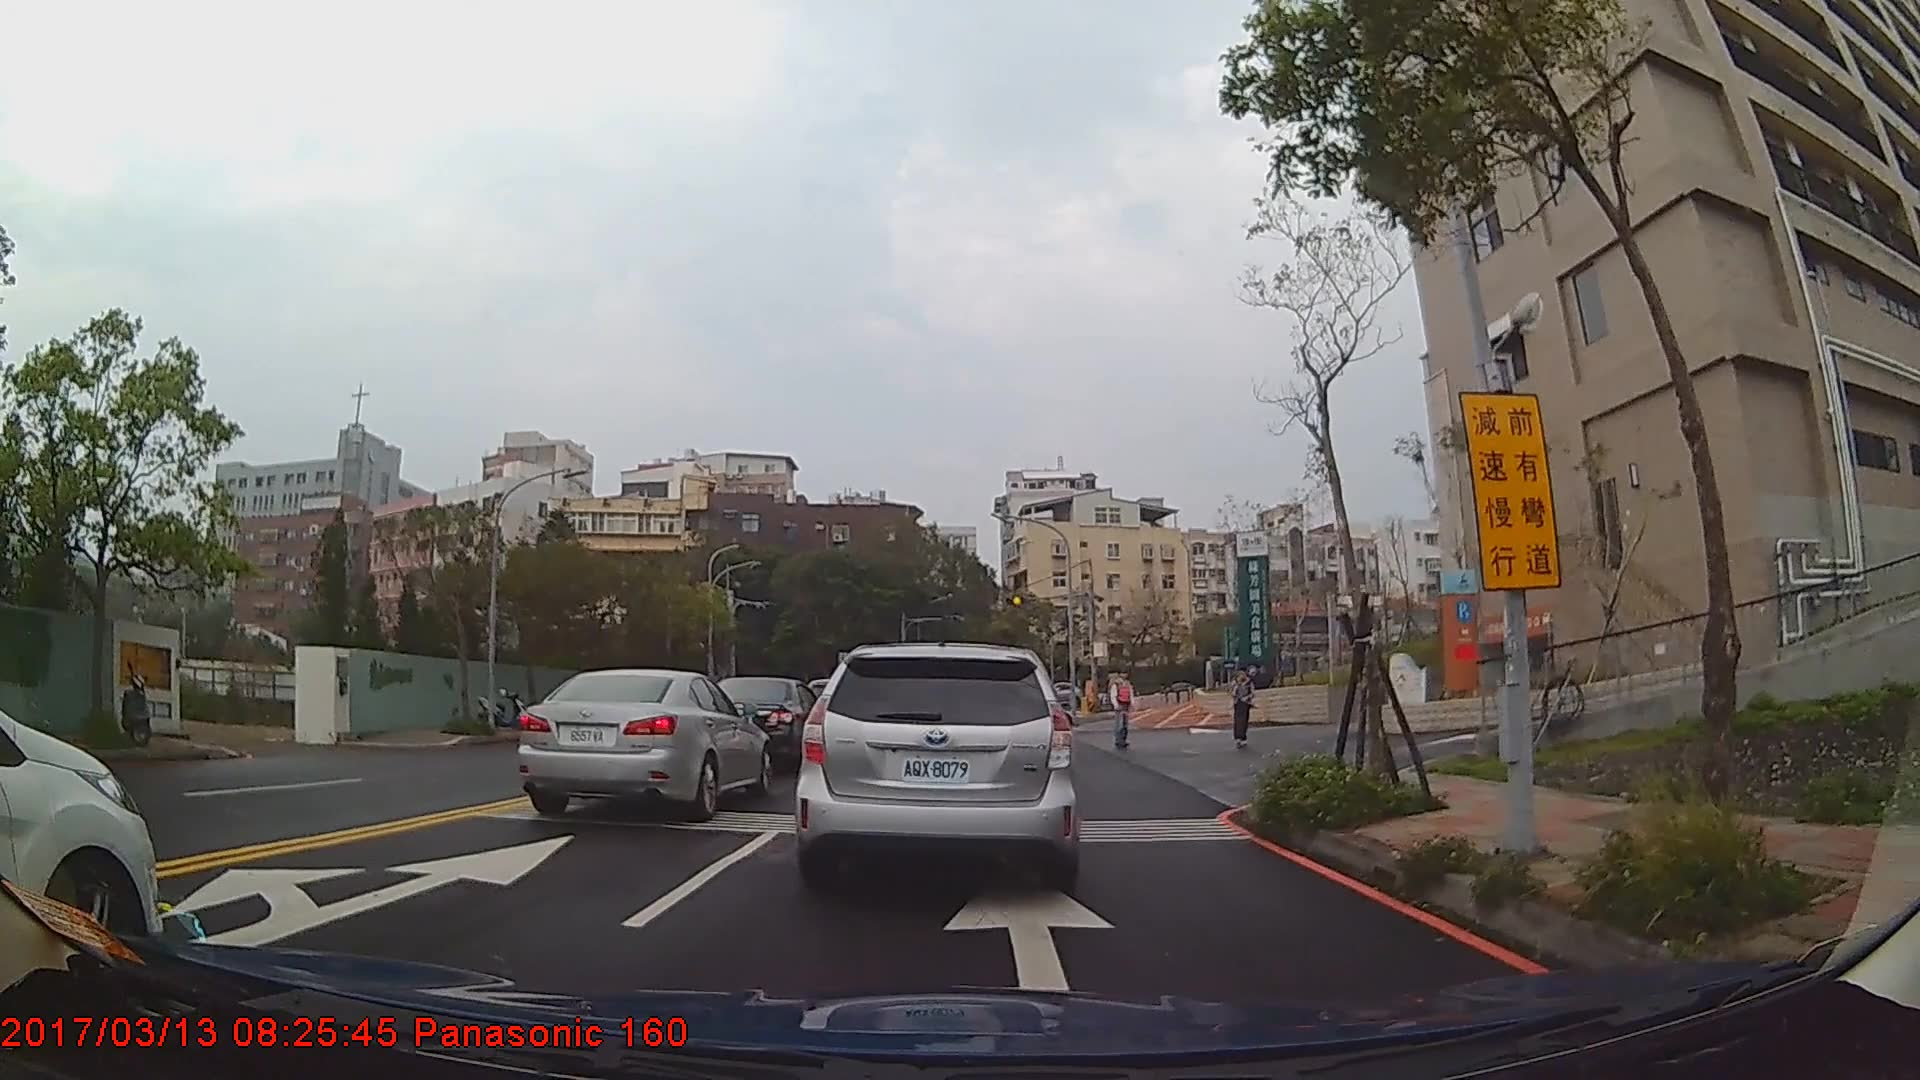pedestrian: (1107, 669, 1137, 749), (1231, 669, 1256, 750)
vehicle: (794, 640, 1080, 887), (0, 704, 162, 965), (514, 667, 771, 817), (704, 674, 825, 771)
